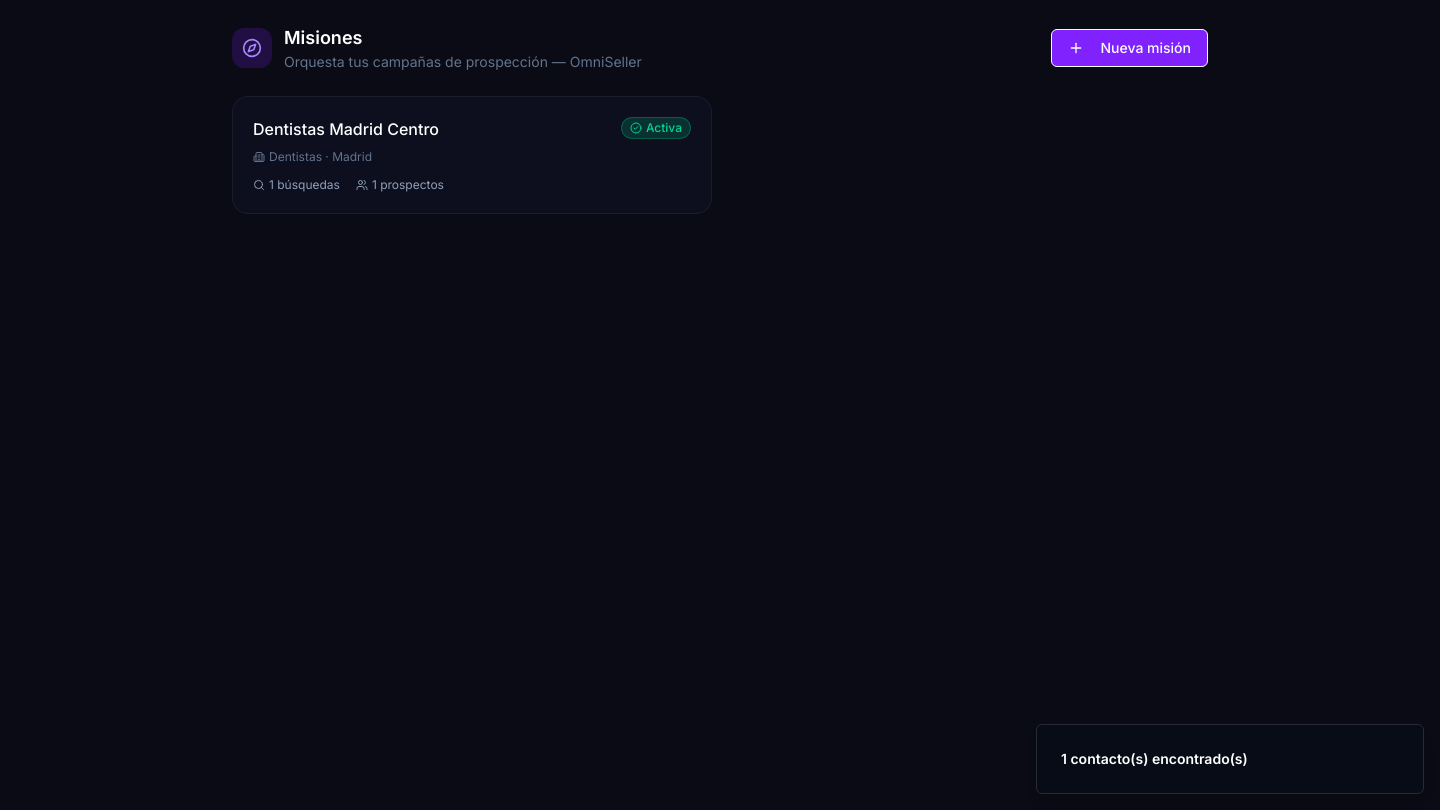
Contact Finder › 11. estado vacío cuando no se encuentran contactos
Click the text "Dentistas Madrid Centro" at (346, 129), box 253,117 -> 439,141
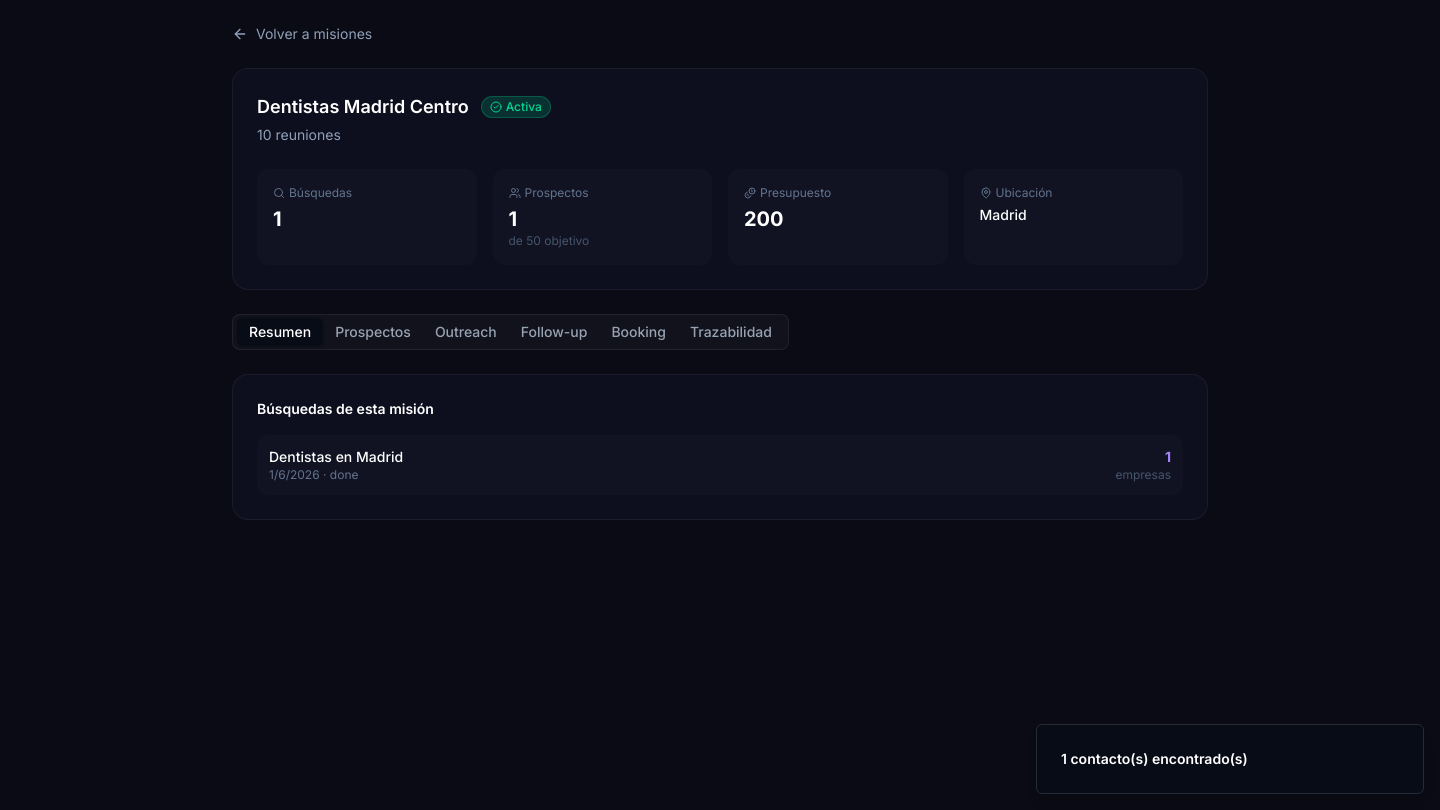
Expected: the heading "Búsquedas de esta misión" is shown, 257,400 -> 434,417
Press the mouse on the tab with test id "tab-prospectos" at (373, 332), box 323,318 -> 423,346
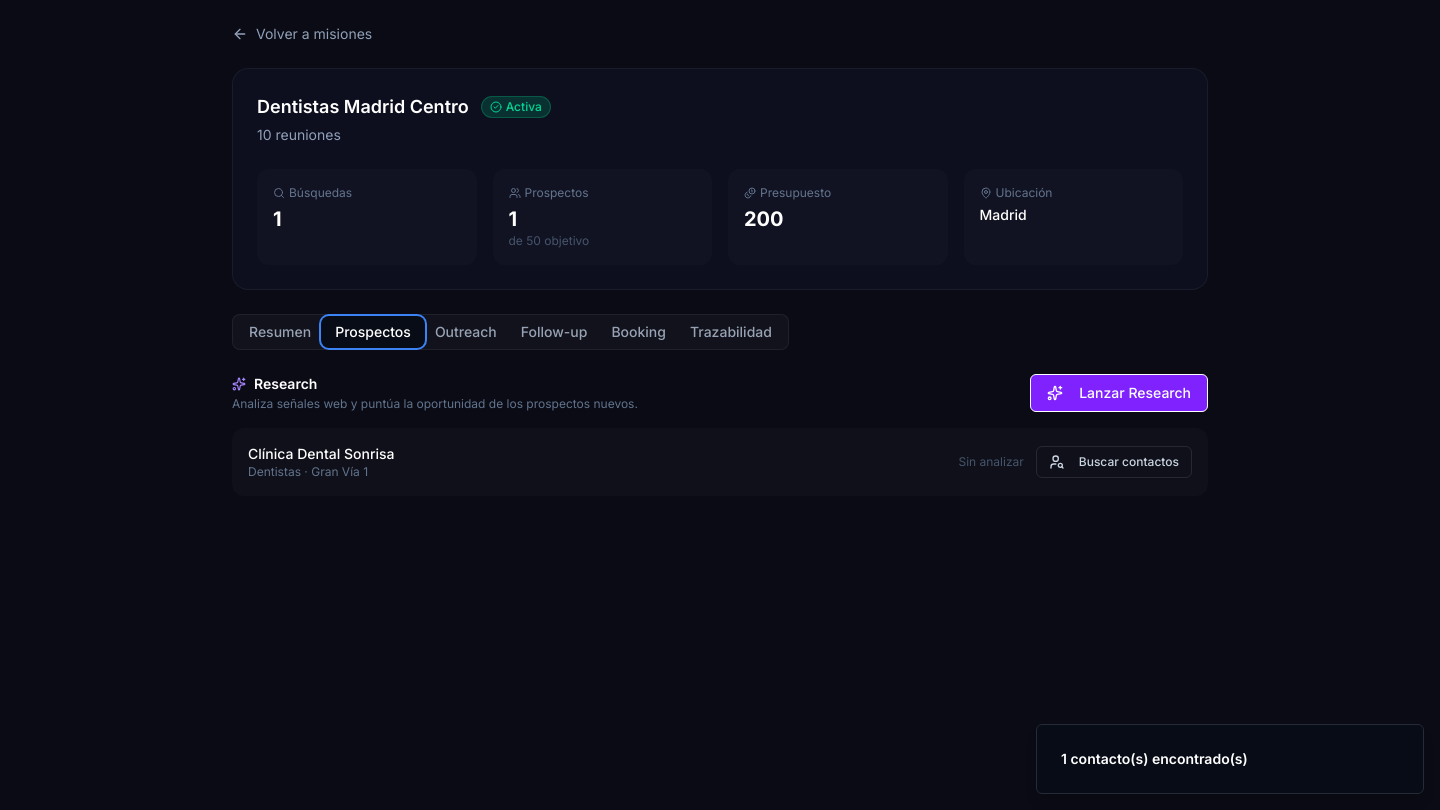
Expected: the text "Clínica Dental Sonrisa" is shown, 248,444 -> 394,464
Click the button with test id "find-contacts-100" at (1114, 462), box 1036,446 -> 1192,478
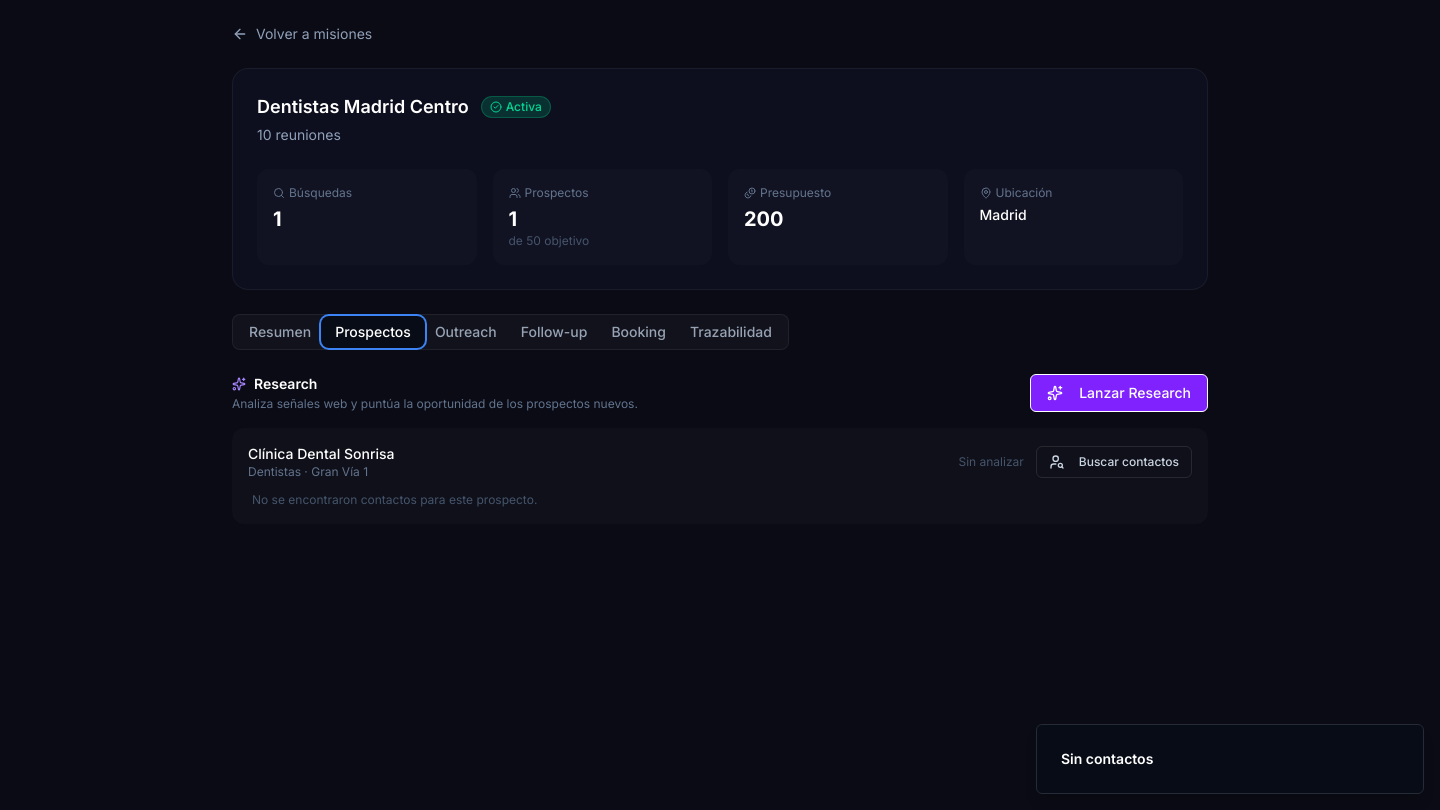
Expected: the text "No se encontraron contactos para este prospecto." is shown, 252,492 -> 537,507
